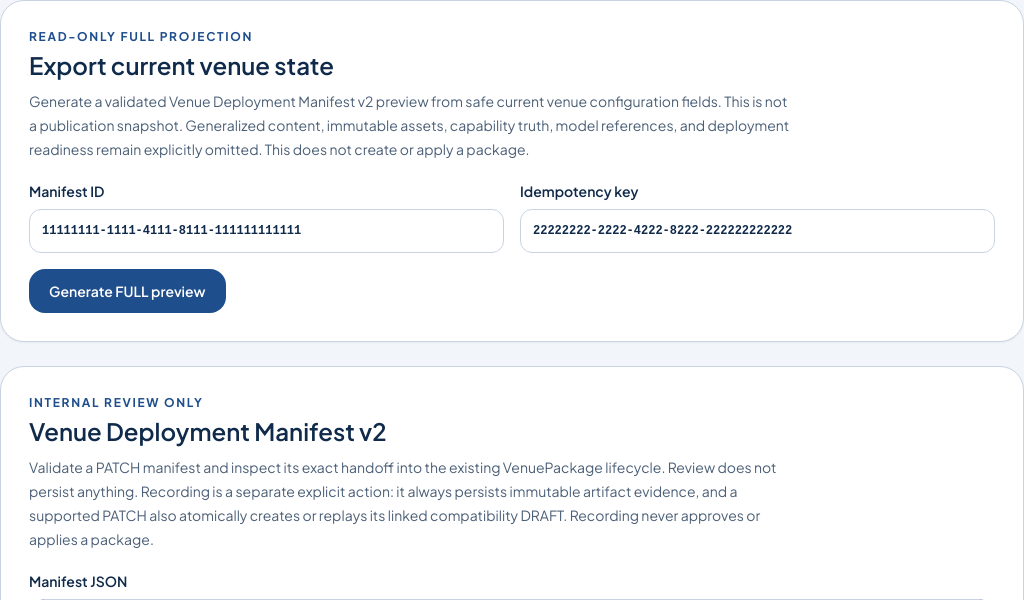
DeploymentManifestReview › generates a caller-enveloped FULL preview with explicit omissions and no apply control
Step 1. Click the button "Generate FULL preview" → (127, 291), box [29,269,226,313]
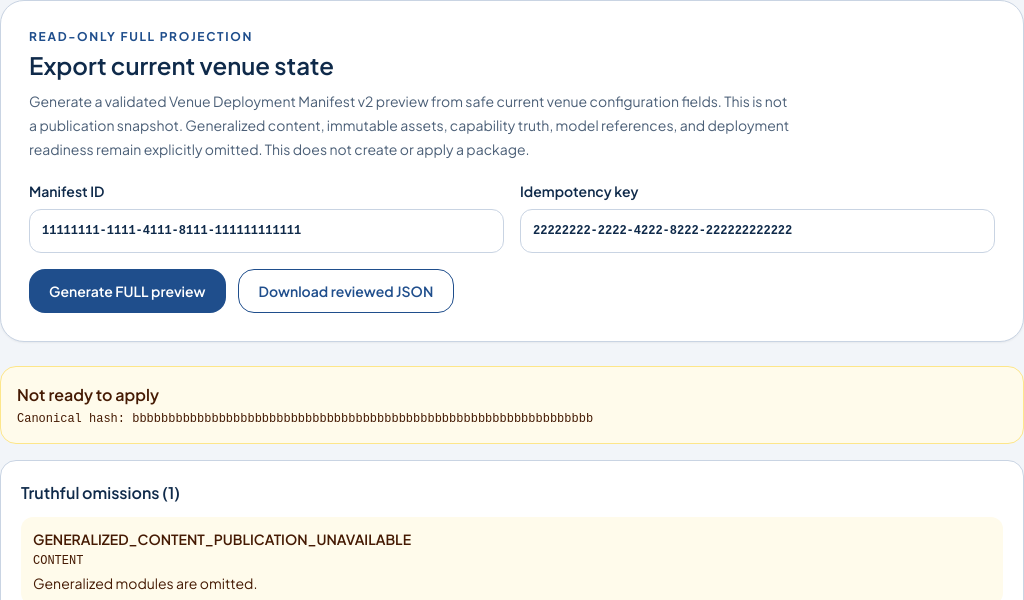
Expected: the text "Not ready to apply" is shown, [17,384,159,405]
Expected: the text "GENERALIZED_CONTENT_PUBLICATION_UNAVAILABLE" is shown, [33,530,411,548]
Expected: the button "Download reviewed JSON" is shown, [238,269,454,313]
